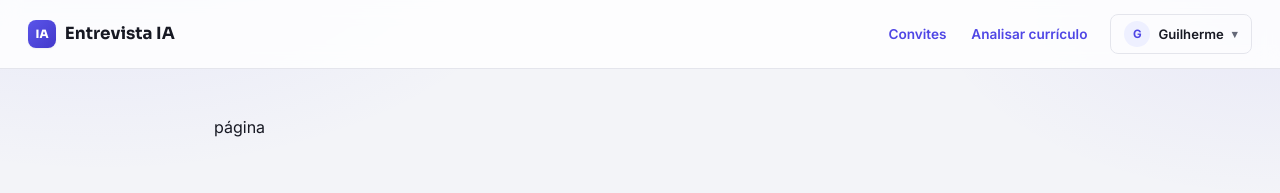
Layout › clicar em "Sair" desloga (limpa o localStorage e fecha o menu)
Click the button "G Guilherme ▾" at (1181, 34), box [1110,14,1252,54]
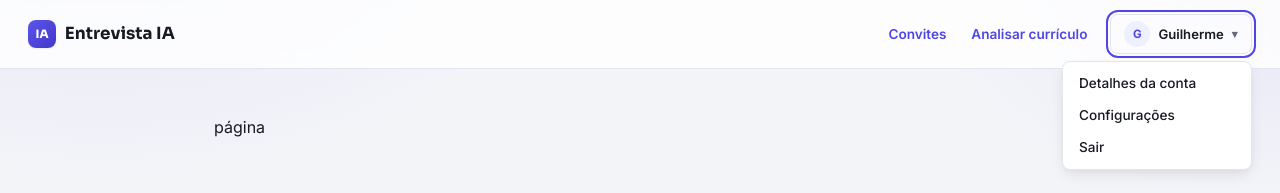
Click the menu item "Sair" at (1157, 147), box [1069,131,1245,163]
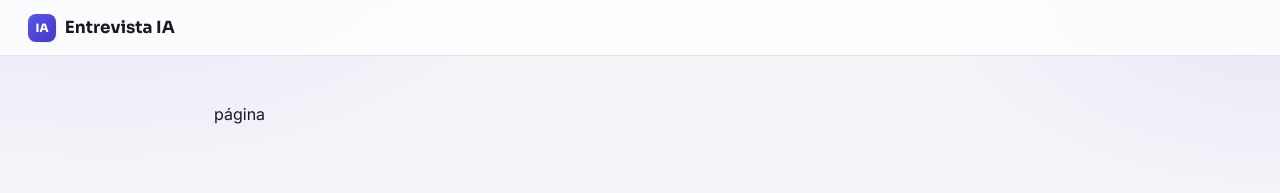
Expected: the button "Guilherme" is gone
